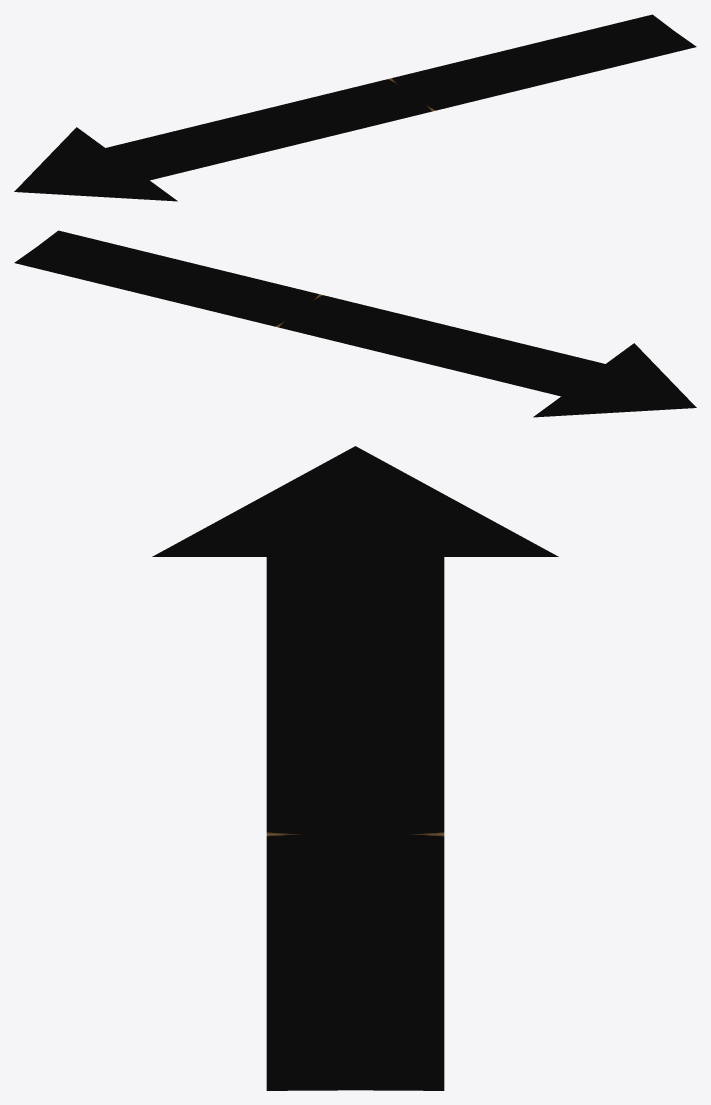
Rendered from arrow03-01.FBX.
The picture shows the model from 3 angles, top to bottom: view 1: azimuth 30°, elevation 25°; view 2: azimuth 150°, elevation 25°; view 3: azimuth 270°, elevation 25°; orthographic projection. The views are drawn at different scales.
Visible parts, largest first — view 1: Box006; view 2: Box006; view 3: Box006.
Boxes of the visible parts, bbox=[...] form: Box006: bbox=[14, 14, 696, 201]; Box006: bbox=[14, 230, 696, 417]; Box006: bbox=[152, 446, 558, 1090].
Size of the model in its own units: 739 by 2.84e-14 by 197.
